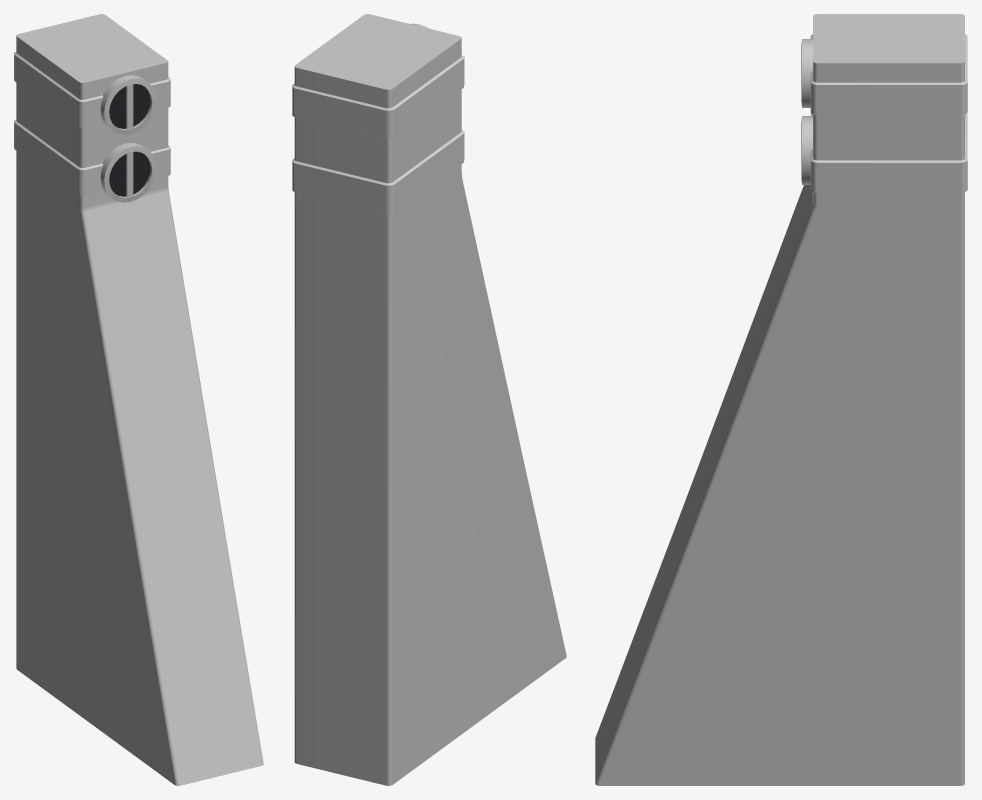
The model's file is Wall1_el1.fbx.
3 views of the same model, side by side, from view 1: azimuth 30°, elevation 25°; view 2: azimuth 150°, elevation 25°; view 3: azimuth 270°, elevation 25° (orthographic). The views are drawn at different scales.
Visible parts, largest first — view 1: polySurface130; view 2: polySurface130; view 3: polySurface130.
Part boxes in pixels (x1,y1,x2,y2): polySurface130: (14, 14, 263, 785); polySurface130: (292, 14, 566, 785); polySurface130: (595, 14, 967, 785).
Size of the model in its own units: 525 by 3430 by 1603.
